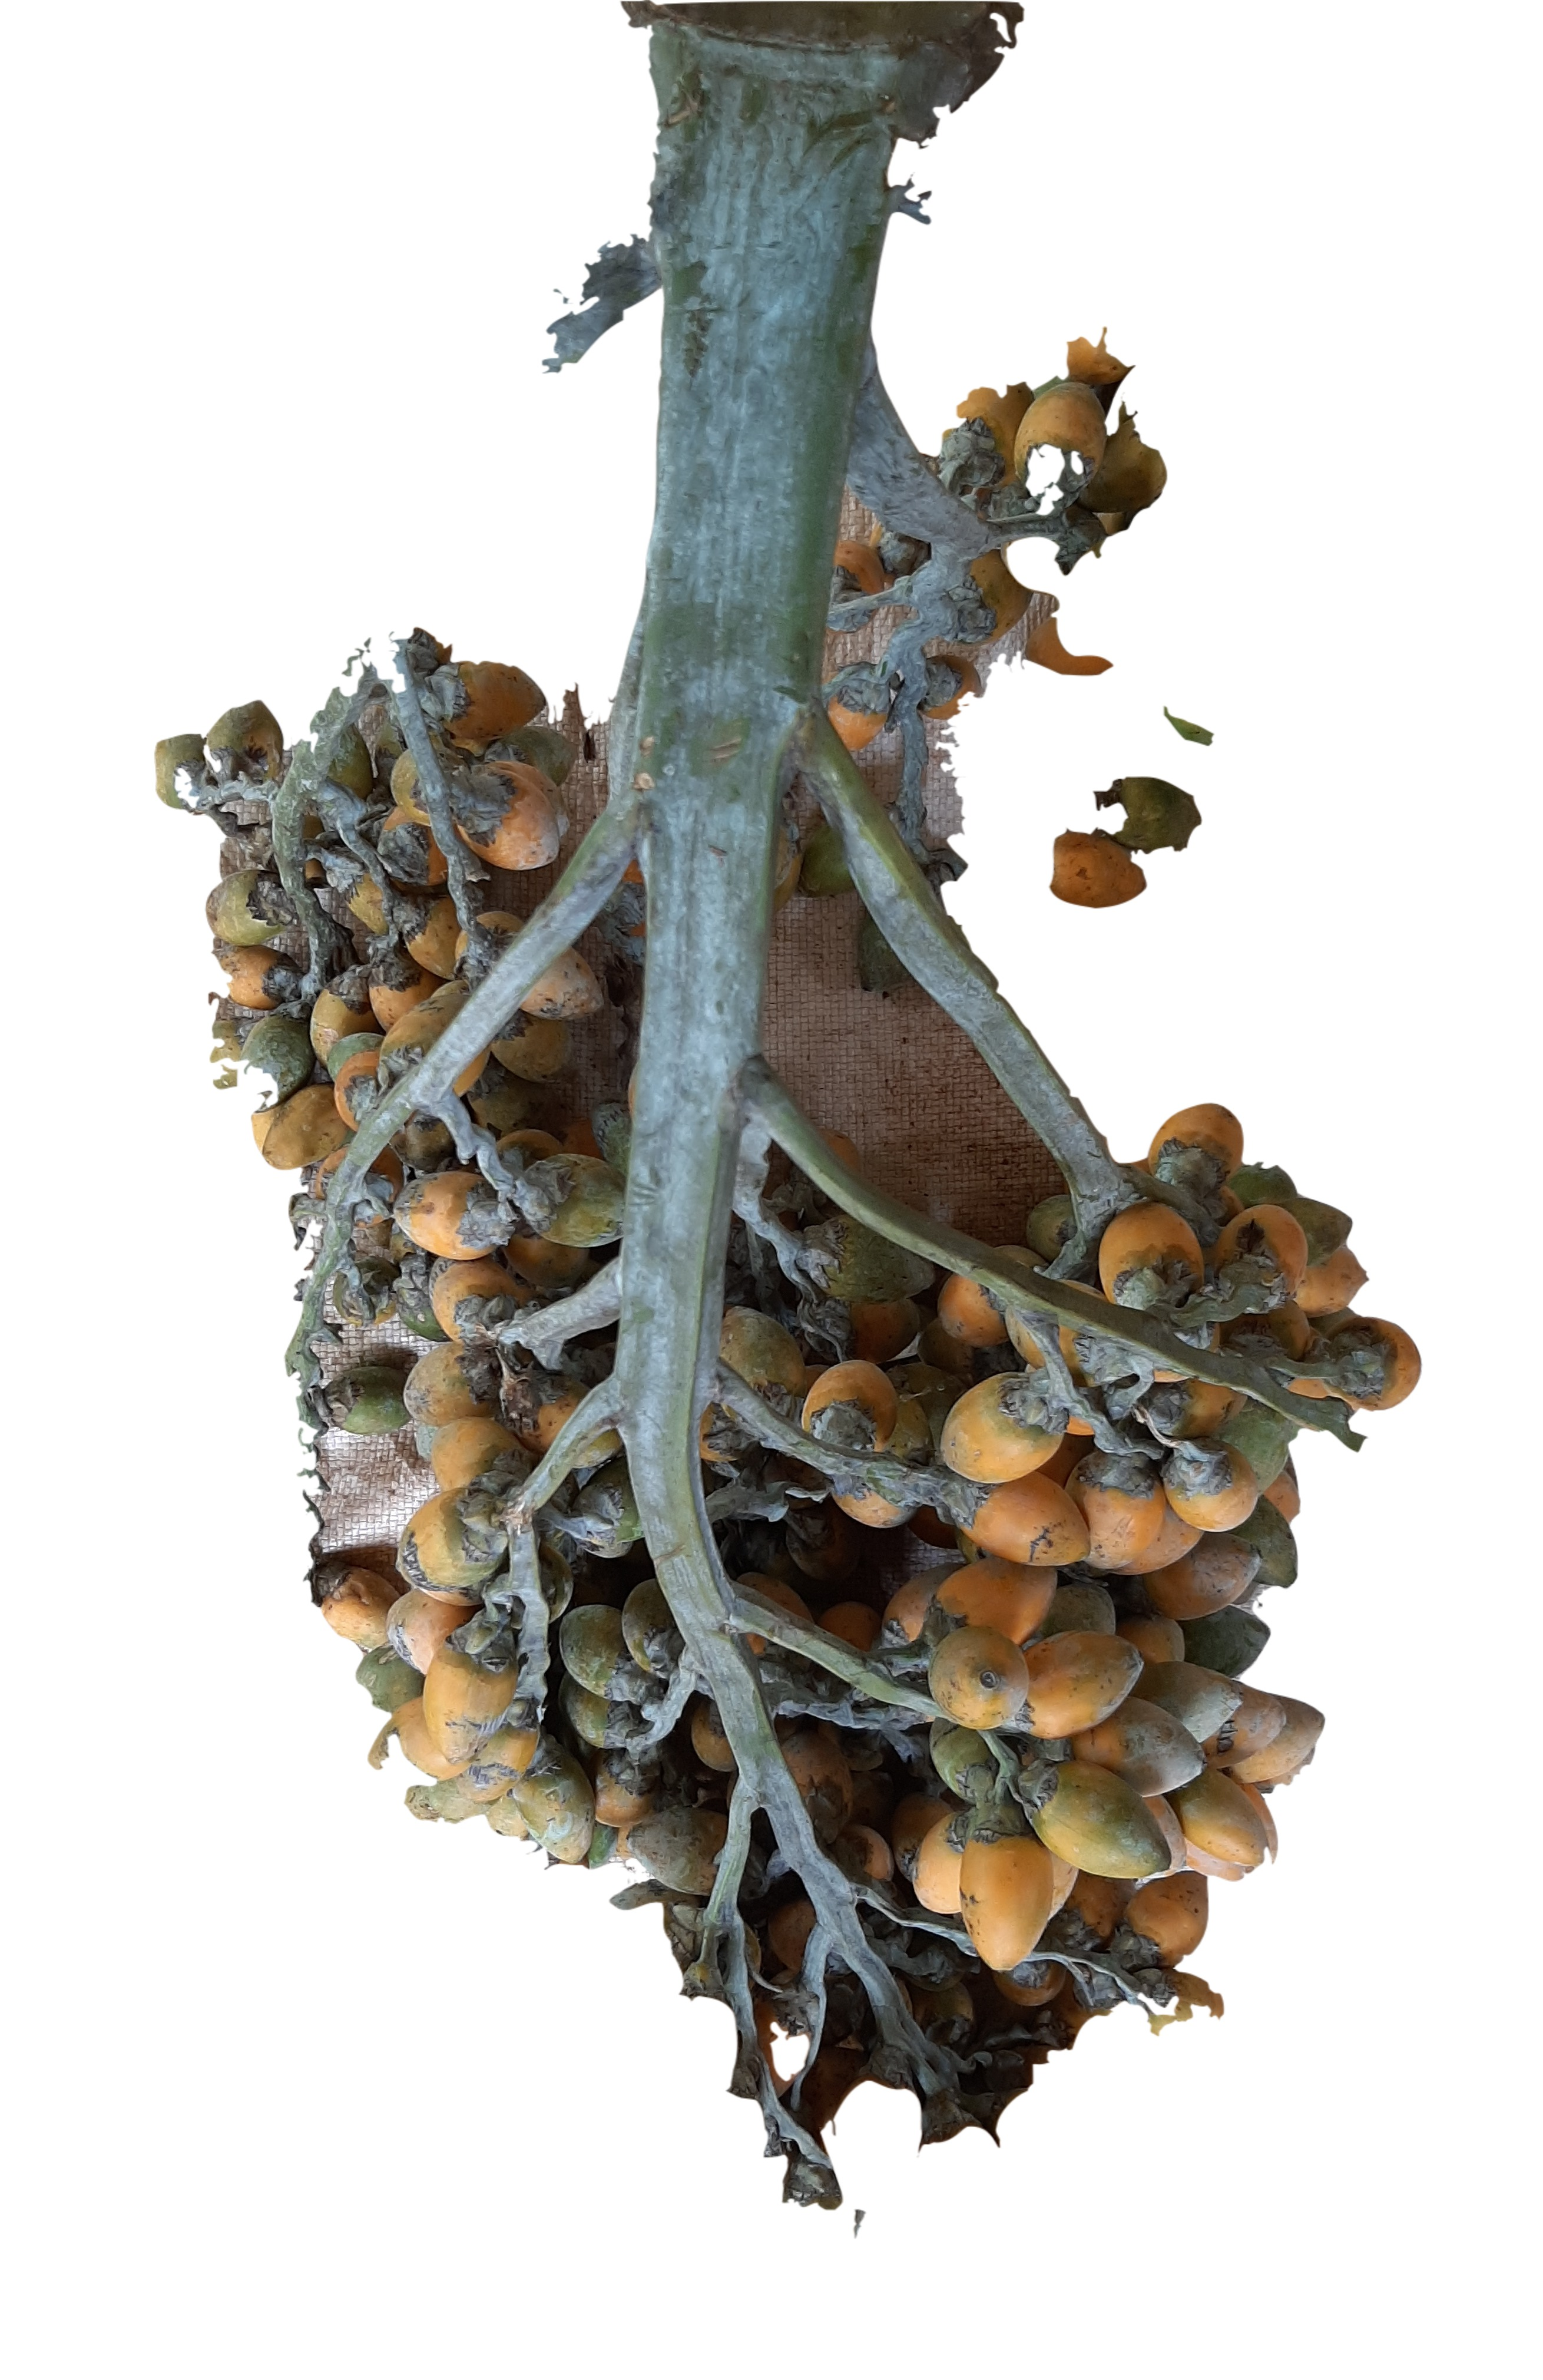areca bunch: (128, 0, 1451, 2243)
